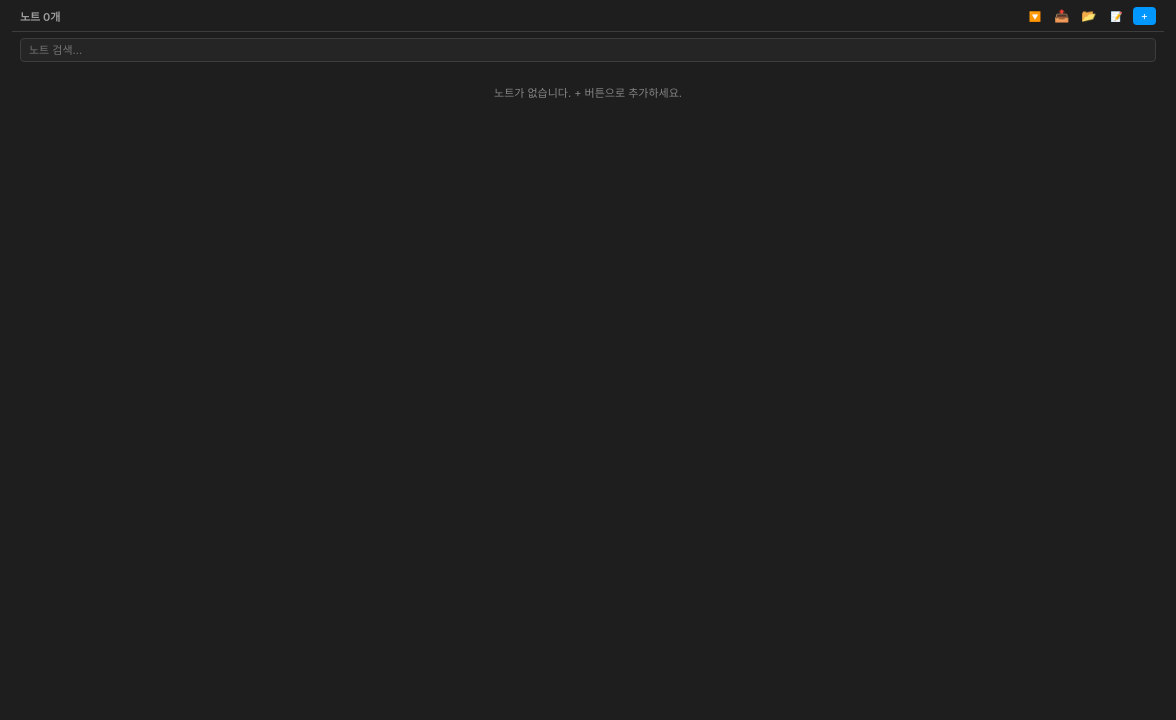
Scenario: NotesPanel › 노트 추가 시 개수가 업데이트된다
This screenshot has width=1176, height=720.
Click the button titled "새 노트".
click(1144, 16)  # box [1133, 6, 1156, 24]
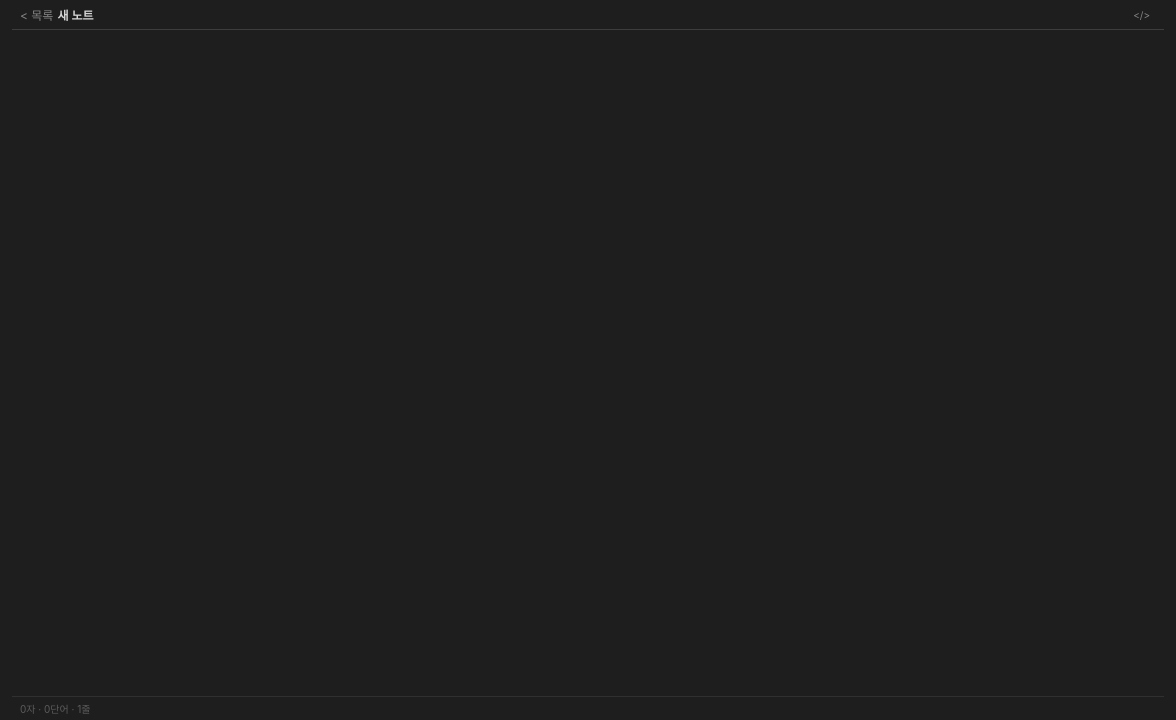
Click the button "< 목록".
click(37, 14)  # box [20, 6, 53, 23]
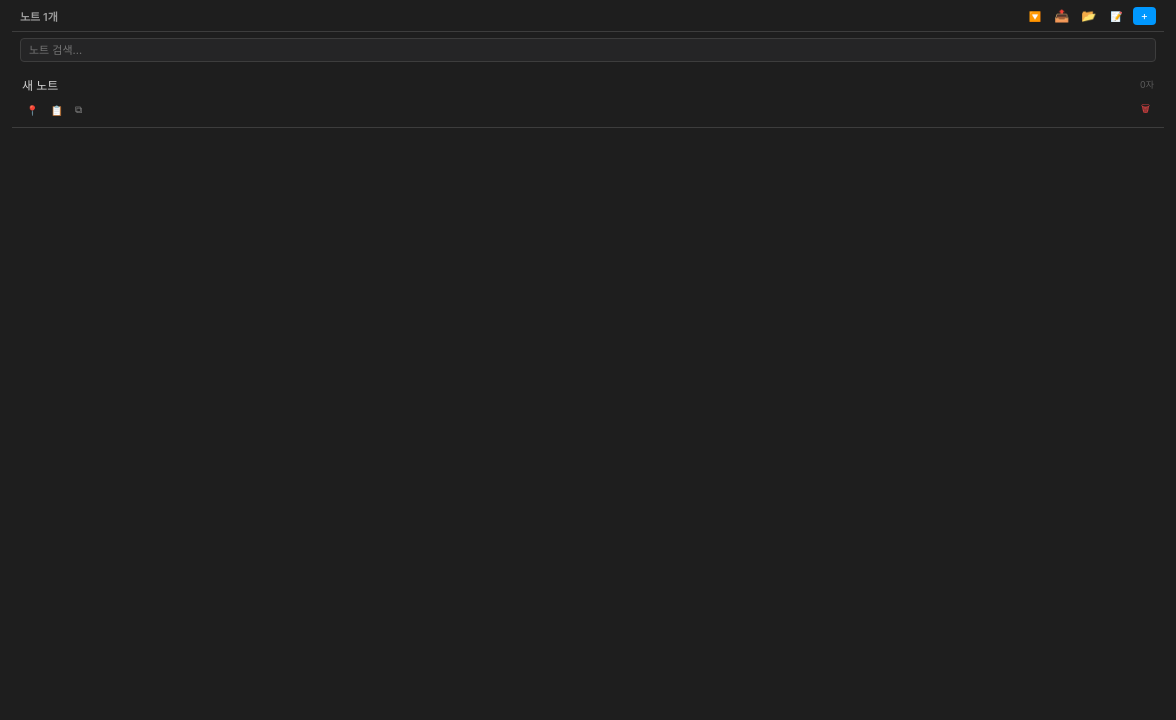
Expected: the text "노트 1개" is shown, [20, 10, 58, 24]
